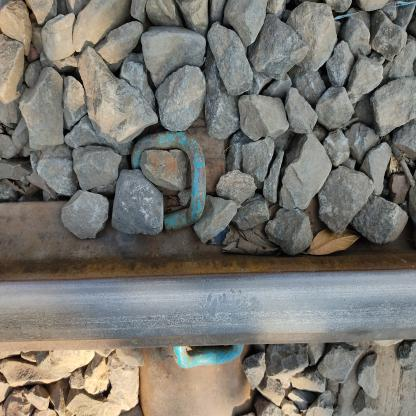Non Defective 1: (199, 168, 328, 314)
